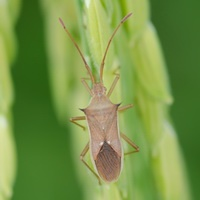insect: (59, 13, 138, 183)
